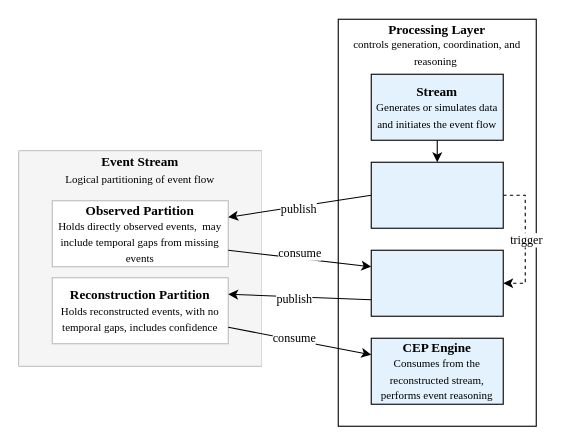
This 561x446 diagram has some shape labels left out. The shapes that lost their labels are listed below. From the top down, each one's centre as x and y in pixels, then its label:
pixel 436 194: Coordinator Moniters schedules, detects gaps, triggers reconstruction
pixel 436 282: Reconstructors Fills in missing data, publishes events with confidence attached
